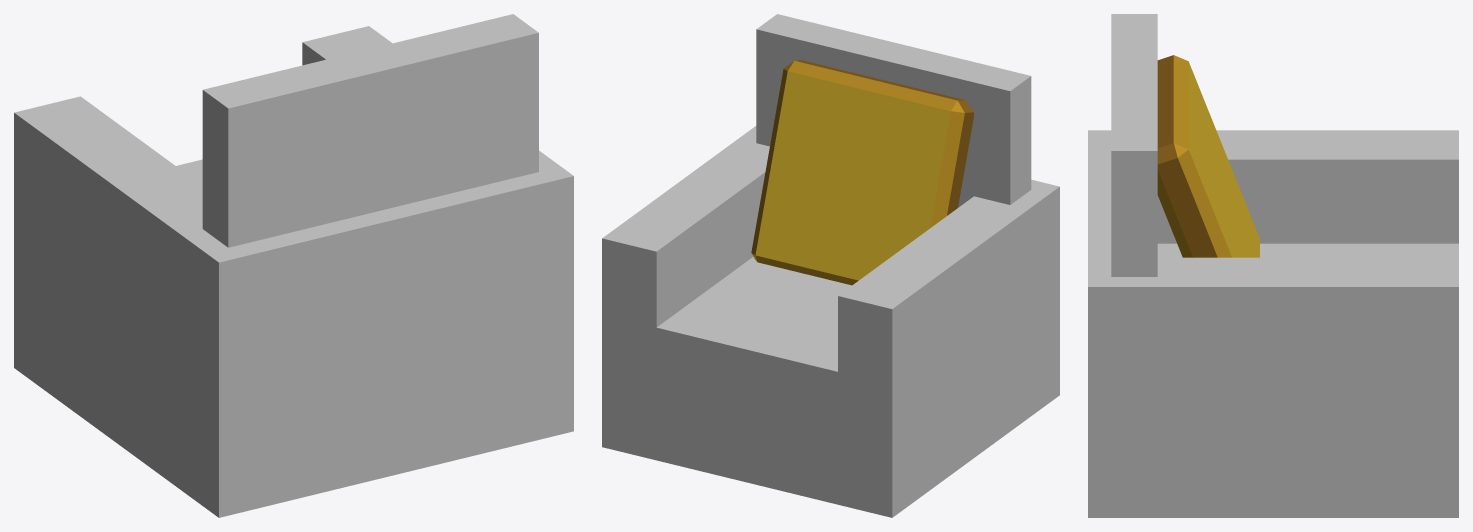
Rendered from fauteuil.obj.
3 renders of one model, left to right at view 1: azimuth 30°, elevation 25°; view 2: azimuth 150°, elevation 25°; view 3: azimuth 270°, elevation 25°, orthographic. The views are drawn at different scales.
Visible parts, largest first — view 1: cube.007, cube.005; view 2: cube.005, cube.007, beveled_cuboid; view 3: cube.007, cube.005, beveled_cuboid.
Part boxes in pixels (bbox=[...]): cube.007: bbox=[14, 26, 573, 517]; cube.005: bbox=[36, 14, 538, 247]; cube.005: bbox=[620, 14, 1031, 475]; cube.007: bbox=[602, 126, 1059, 517]; beveled_cuboid: bbox=[751, 60, 973, 285]; cube.007: bbox=[1088, 130, 1458, 517]; cube.005: bbox=[1111, 14, 1458, 276]; beveled_cuboid: bbox=[1157, 55, 1259, 257].
Size of the model in its own units: 1 by 1.06 by 1.
